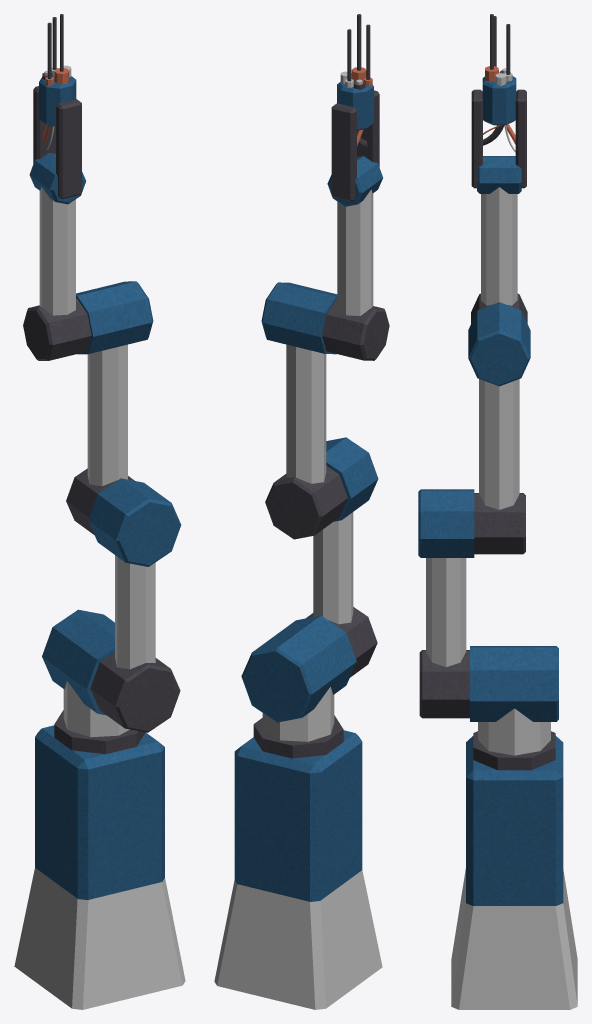
Rendered from OperatingManipulator.fbx.
3 renders of one model, left to right at view 1: azimuth 30°, elevation 25°; view 2: azimuth 150°, elevation 25°; view 3: azimuth 270°, elevation 25°, orthographic. The views are drawn at different scales.
Visible parts, largest first — view 1: Manipulator, Base.001, Joint.003, Tube.001, Joint.002, Joint.001, Tube, Tube.002, Joint.005, Plank, Joint.006, Joint (+4 smaller); view 2: Manipulator, Base.001, Joint.001, Tube.001, Tube.002, Joint.004, Tube, Joint.005, Plank, Joint.006, Joint.003, Joint (+4 smaller); view 3: Manipulator, Base.001, Joint.001, Tube.001, Joint.005, Tube, Tube.002, Joint.003, Joint.002, Joint.004, Joint, Plank (+3 smaller).
Part boxes in pixels (bbox=[...]): Manipulator: bbox=[35, 725, 164, 899]; Base.001: bbox=[14, 868, 185, 1009]; Joint.003: bbox=[88, 478, 181, 566]; Tube.001: bbox=[87, 344, 127, 486]; Joint.002: bbox=[90, 652, 180, 732]; Joint.001: bbox=[42, 609, 114, 715]; Tube: bbox=[115, 555, 155, 669]; Tube.002: bbox=[39, 187, 75, 315]; Joint.005: bbox=[76, 281, 153, 354]; Plank: bbox=[33, 86, 81, 199]; Joint.006: bbox=[23, 298, 91, 360]; Joint: bbox=[63, 681, 129, 737]; Manipulator: bbox=[234, 730, 362, 901]; Base.001: bbox=[214, 870, 382, 1009]; Joint.001: bbox=[241, 615, 356, 722]; Tube.001: bbox=[286, 344, 326, 483]; Tube.002: bbox=[337, 189, 373, 315]; Joint.004: bbox=[265, 466, 347, 539]; Tube: bbox=[313, 512, 353, 624]; Joint.005: bbox=[261, 282, 337, 354]; Plank: bbox=[331, 90, 379, 201]; Joint.006: bbox=[322, 299, 389, 360]; Joint.003: bbox=[326, 437, 378, 521]; Joint: bbox=[262, 687, 334, 741]; Manipulator: bbox=[466, 736, 563, 906]; Base.001: bbox=[451, 868, 577, 1009]; Joint.001: bbox=[470, 646, 558, 721]; Tube.001: bbox=[479, 379, 519, 509]; Joint.005: bbox=[468, 302, 530, 386]; Tube: bbox=[426, 558, 466, 667]; Tube.002: bbox=[481, 187, 517, 305]; Joint.003: bbox=[418, 489, 474, 557]; Joint.002: bbox=[419, 650, 469, 718]; Joint.004: bbox=[474, 493, 525, 554]; Joint: bbox=[478, 708, 550, 755]; Plank: bbox=[471, 89, 526, 188].
Bounding box in the file's own units: 0.565 × 0.6309 × 4.12.
